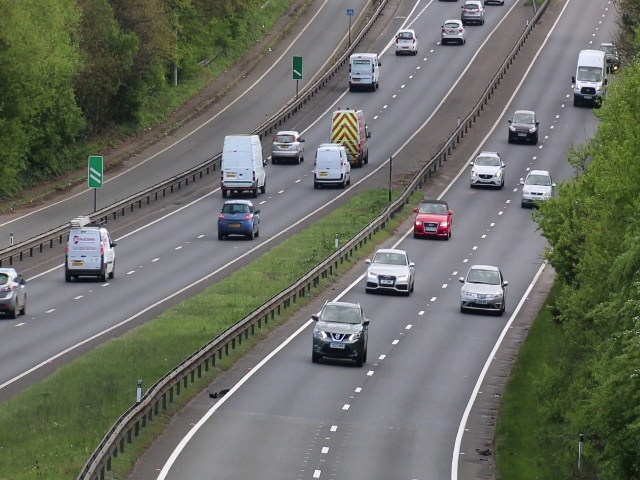car: (310, 299, 369, 368), (219, 132, 268, 196), (66, 225, 116, 283), (458, 260, 508, 314), (326, 108, 371, 167), (365, 246, 415, 297), (571, 42, 604, 107), (217, 199, 262, 241), (311, 144, 351, 190), (412, 198, 451, 241), (1, 263, 29, 317), (347, 52, 382, 93), (471, 149, 503, 191), (520, 167, 551, 208), (271, 129, 304, 167), (507, 107, 538, 144), (441, 15, 468, 47), (392, 27, 418, 56), (459, 1, 488, 25)
